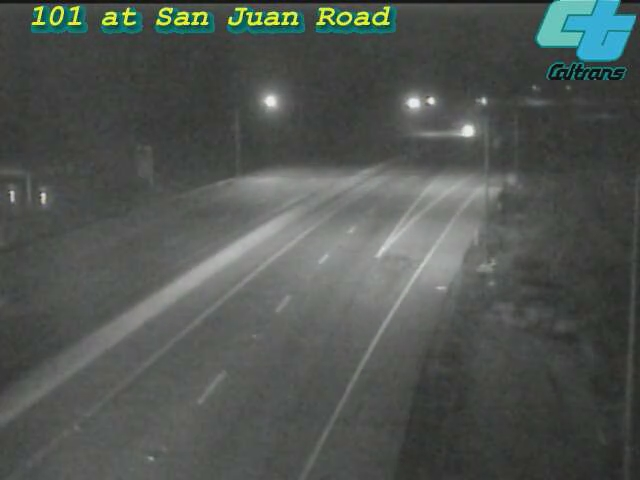vehicle: (442, 105, 492, 155)
